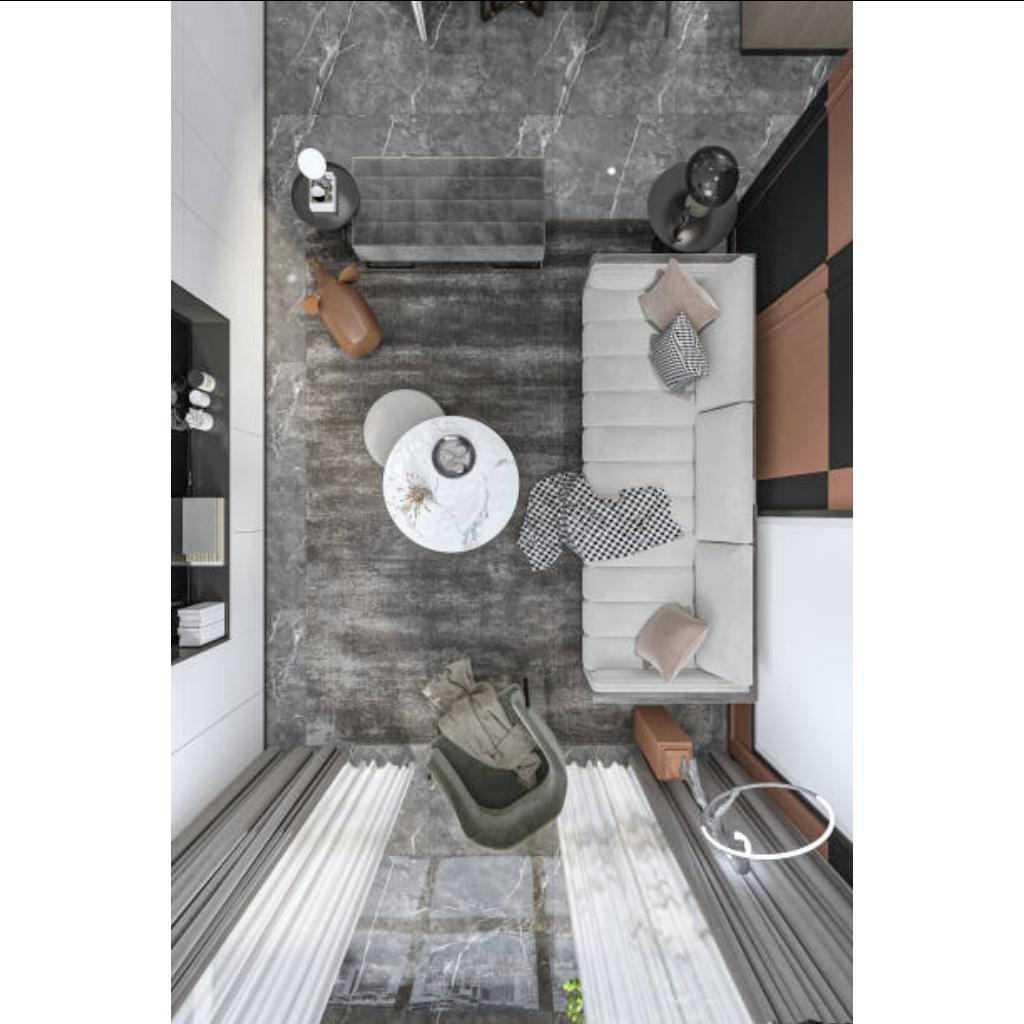TV stand: (170, 284, 266, 662)
chair: (428, 684, 566, 850)
coffee table: (365, 389, 521, 555)
floor lamp: (632, 710, 684, 760)
ottoman: (354, 157, 546, 263)
rug: (293, 218, 705, 764)
side table: (650, 163, 738, 247), (288, 162, 348, 228)
sofa: (582, 257, 754, 693)
wardrobe: (173, 2, 261, 282), (170, 665, 266, 837)
window: (172, 1008, 852, 1024)
